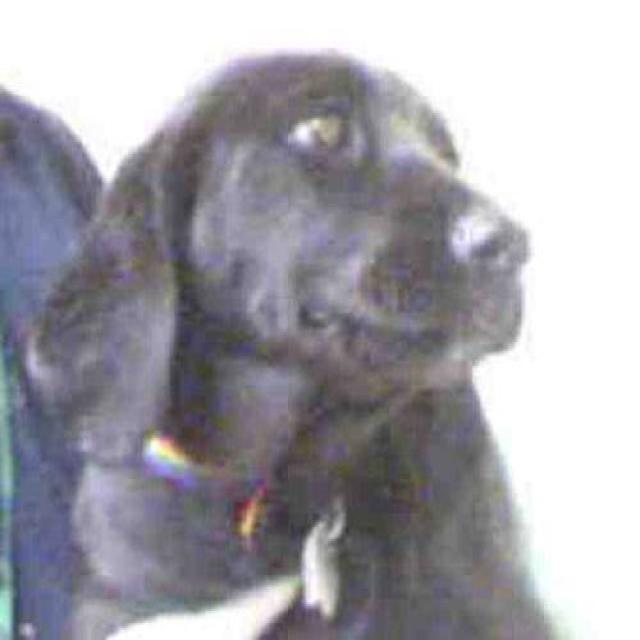Dog: (17, 44, 538, 494)
